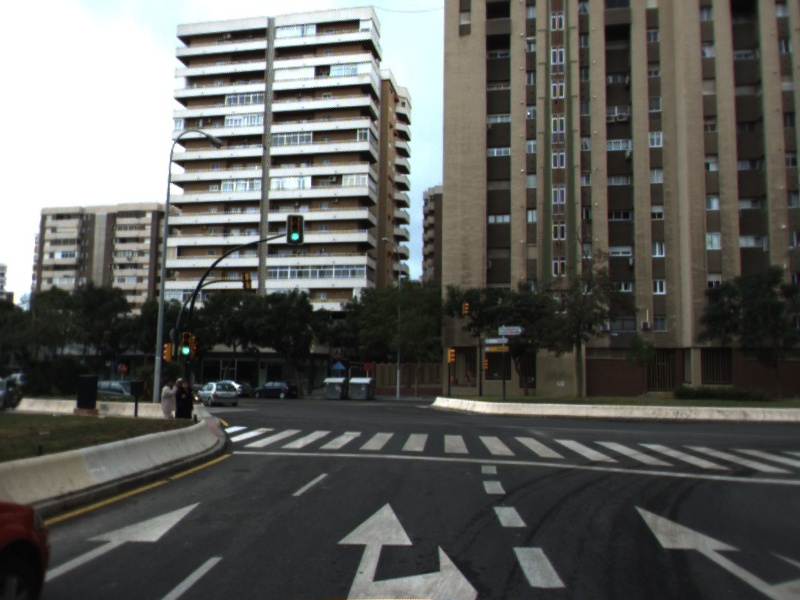STRAIGHT: (42, 495, 208, 585)
STRAIGHT_RIGHT: (630, 503, 800, 599), (333, 498, 481, 600)
